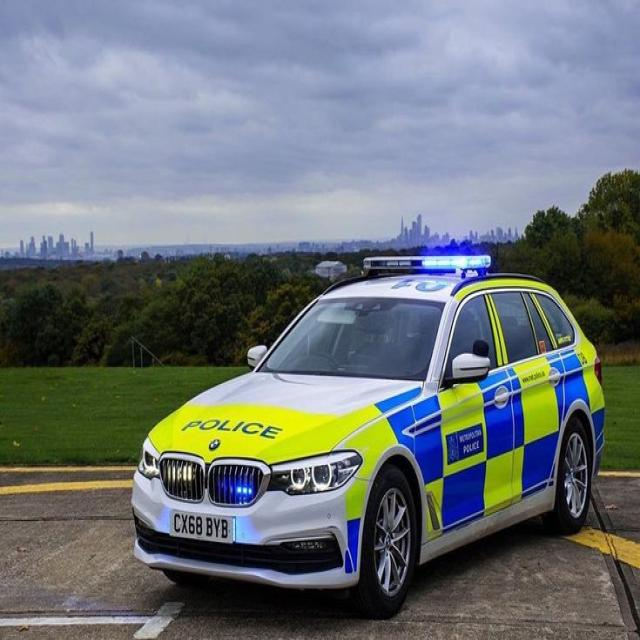emergency lights: (359, 248, 494, 283), (212, 478, 257, 498)
